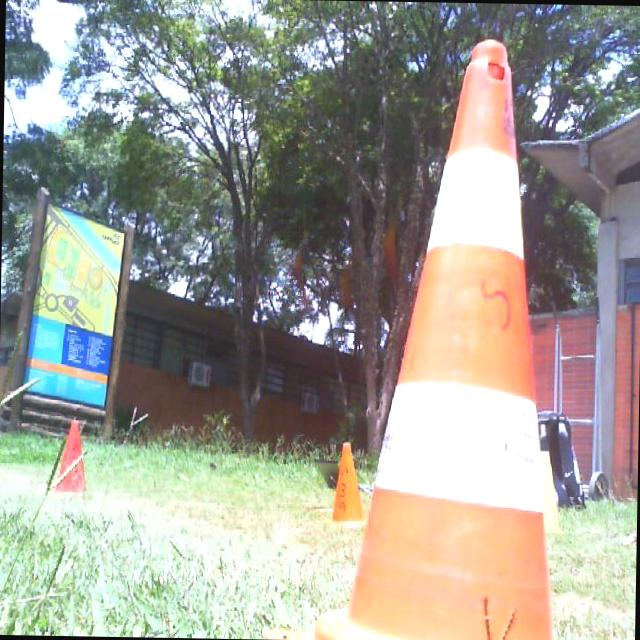Cone: (263, 35, 562, 640), (327, 441, 370, 529), (53, 419, 90, 500)
